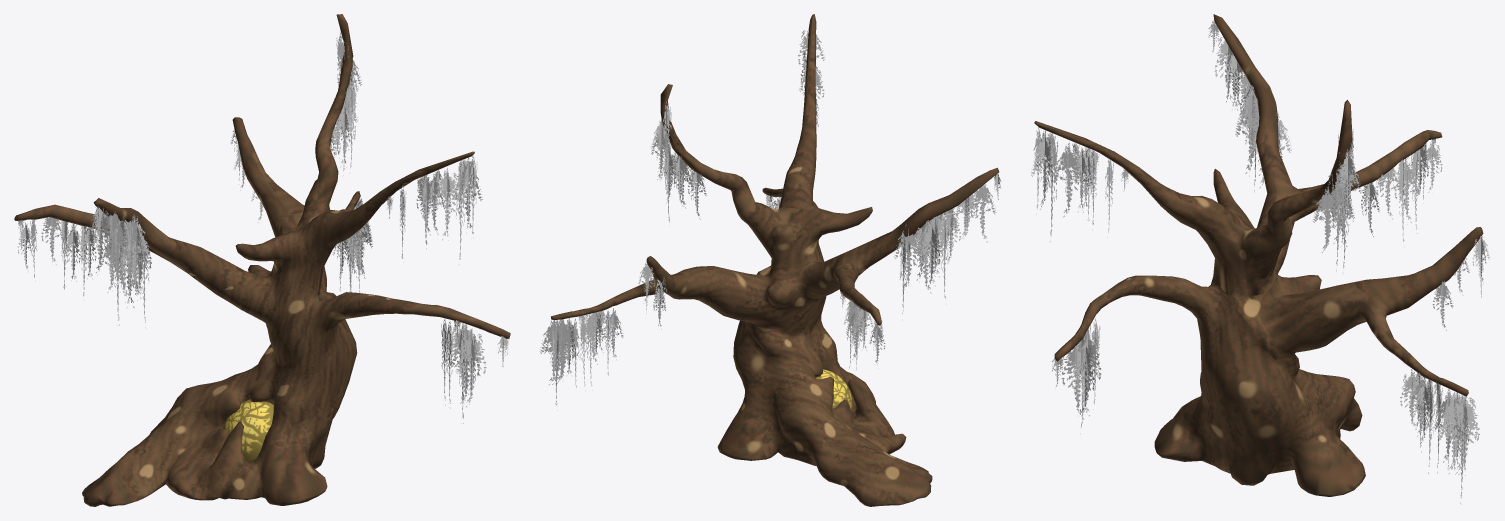
File: Tree 1.fbx
3 renders of one model, left to right at view 1: azimuth 30°, elevation 25°; view 2: azimuth 150°, elevation 25°; view 3: azimuth 270°, elevation 25°, orthographic. The views are drawn at different scales.
Visible parts, largest first — view 1: tree test, leaves, tree test.002; view 2: tree test, leaves, tree test.002; view 3: tree test, leaves.
Part boxes in pixels (x1=…): tree test: x1=14, y1=14, x2=510, y2=506; leaves: x1=17, y1=31, x2=509, y2=423; tree test.002: x1=223, y1=399, x2=273, y2=462; tree test: x1=551, y1=14, x2=999, y2=506; leaves: x1=539, y1=30, x2=1001, y2=410; tree test.002: x1=816, y1=369, x2=852, y2=411; tree test: x1=1034, y1=14, x2=1483, y2=496; leaves: x1=1031, y1=20, x2=1489, y2=504.
Bounding box in the file's own units: 1299 × 1295 × 1230.
Materials: 3 (2 with a texture image).
